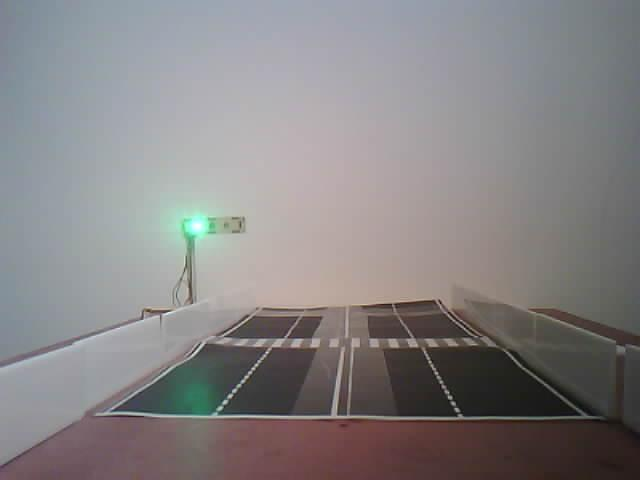crosswalk: (227, 331, 489, 351)
green: (173, 211, 257, 269)
